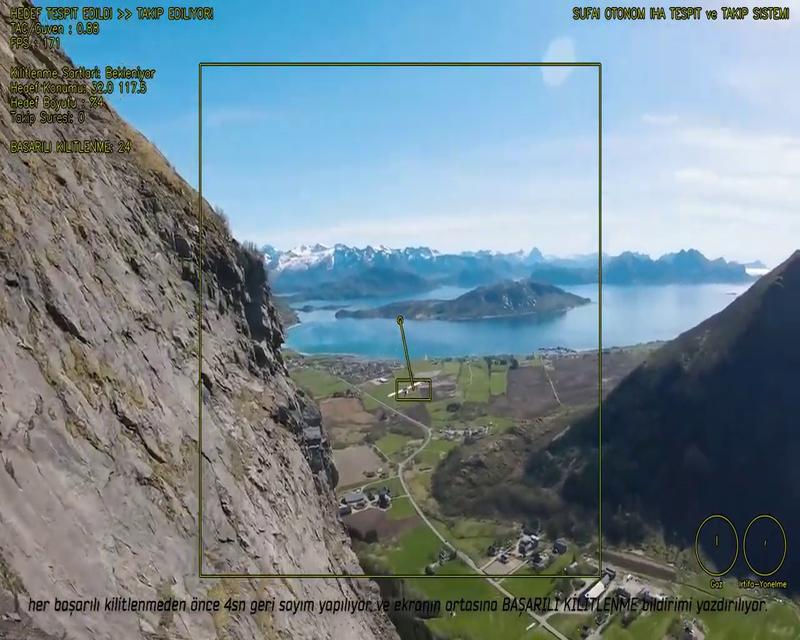UAV: (388, 382, 420, 398)
